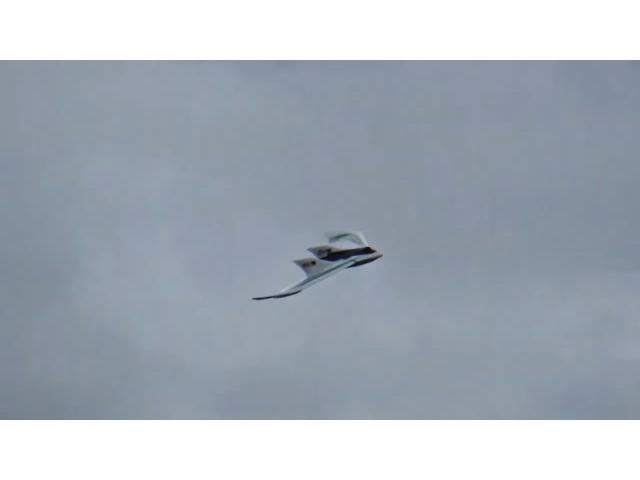Anti-Drone: (250, 224, 384, 300)
